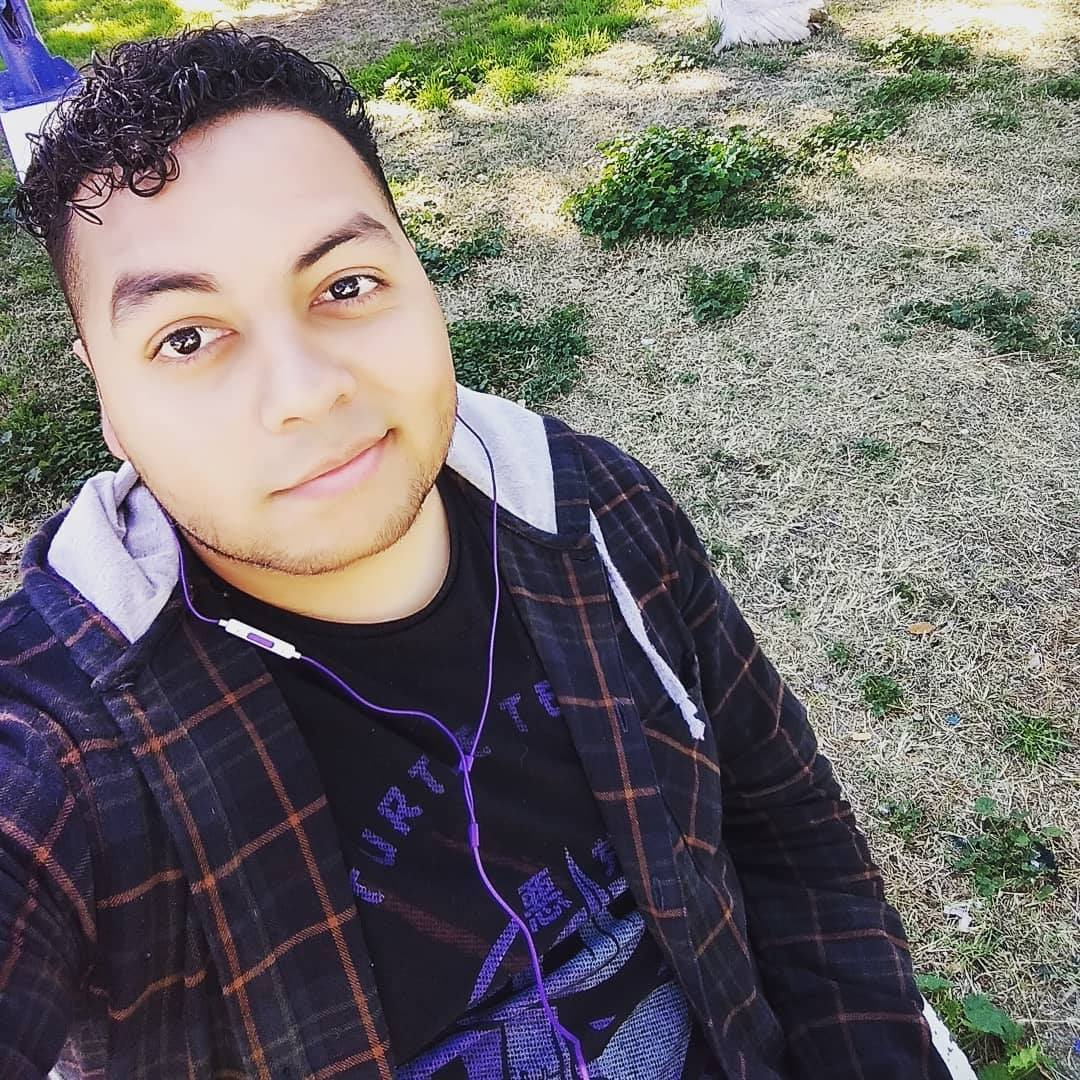Yoshi: (28, 19, 672, 715)
